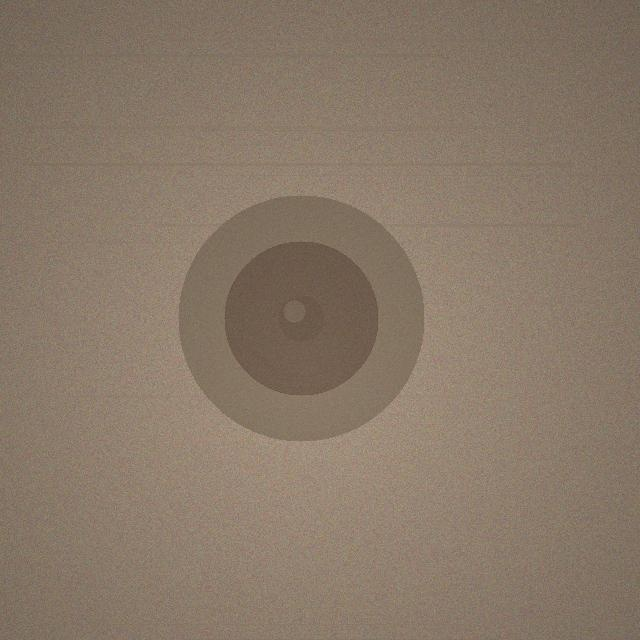good: (178, 195, 424, 441)
